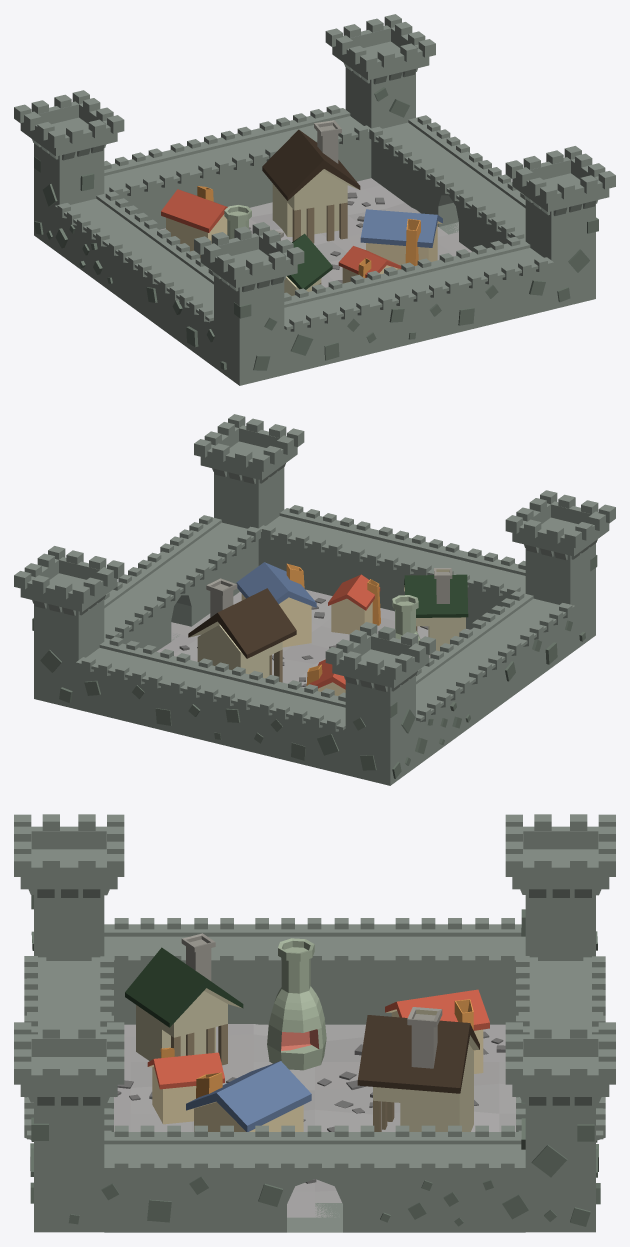
The model's file is Village01.fbx.
3 views of the same model, one above another, from view 1: azimuth 30°, elevation 25°; view 2: azimuth 150°, elevation 25°; view 3: azimuth 270°, elevation 25° (orthographic). The views are drawn at different scales.
Visible parts, largest first — view 1: Muralha, Casa1, Chao, Casa3, Casa2, Casa4, Casa5, Fornalha; view 2: Muralha, Casa1, Chao, Casa4, Casa3, Casa5, Fornalha, Casa2; view 3: Muralha, Chao, Casa1, Casa4, Casa3, Fornalha, Casa5, Casa2.
Boxes of the visible parts, left/top/right/bottom form: Muralha: left=14, top=14, right=615, bottom=385; Casa1: left=262, top=120, right=360, bottom=243; Chao: left=160, top=178, right=472, bottom=287; Casa3: left=360, top=209, right=442, bottom=269; Casa2: left=161, top=186, right=227, bottom=258; Casa4: left=270, top=229, right=332, bottom=295; Casa5: left=338, top=246, right=401, bottom=283; Fornalha: left=224, top=205, right=251, bottom=239; Muralha: left=14, top=414, right=615, bottom=785; Casa1: left=188, top=578, right=296, bottom=682; Chao: left=156, top=589, right=470, bottom=687; Casa4: left=404, top=568, right=468, bottom=655; Casa3: left=236, top=562, right=316, bottom=647; Casa5: left=328, top=574, right=380, bottom=634; Fornalha: left=392, top=595, right=420, bottom=643; Casa2: left=306, top=659, right=345, bottom=695; Muralha: left=14, top=814, right=615, bottom=1232; Chao: left=114, top=1024, right=515, bottom=1217; Casa1: left=357, top=1007, right=479, bottom=1131; Casa4: left=125, top=933, right=243, bottom=1065; Casa3: left=186, top=1061, right=311, bottom=1131; Fornalha: left=267, top=938, right=326, bottom=1070; Casa5: left=147, top=1047, right=224, bottom=1124; Casa2: left=385, top=989, right=489, bottom=1073.
Bounding box in the file's own units: 1715 × 592 × 1714.
